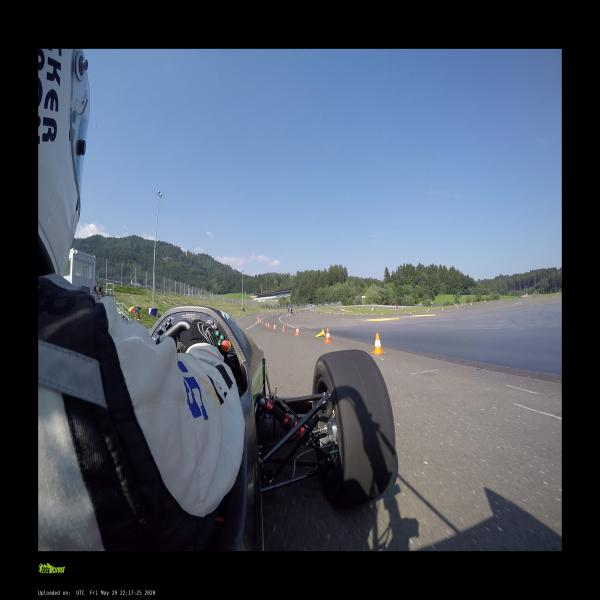orange_cone: (371, 334, 386, 354), (324, 329, 333, 343), (295, 326, 300, 335), (282, 325, 286, 332), (274, 324, 276, 330), (268, 322, 270, 327), (264, 322, 266, 326), (261, 321, 263, 324)
yellow_cone: (316, 328, 326, 338)
